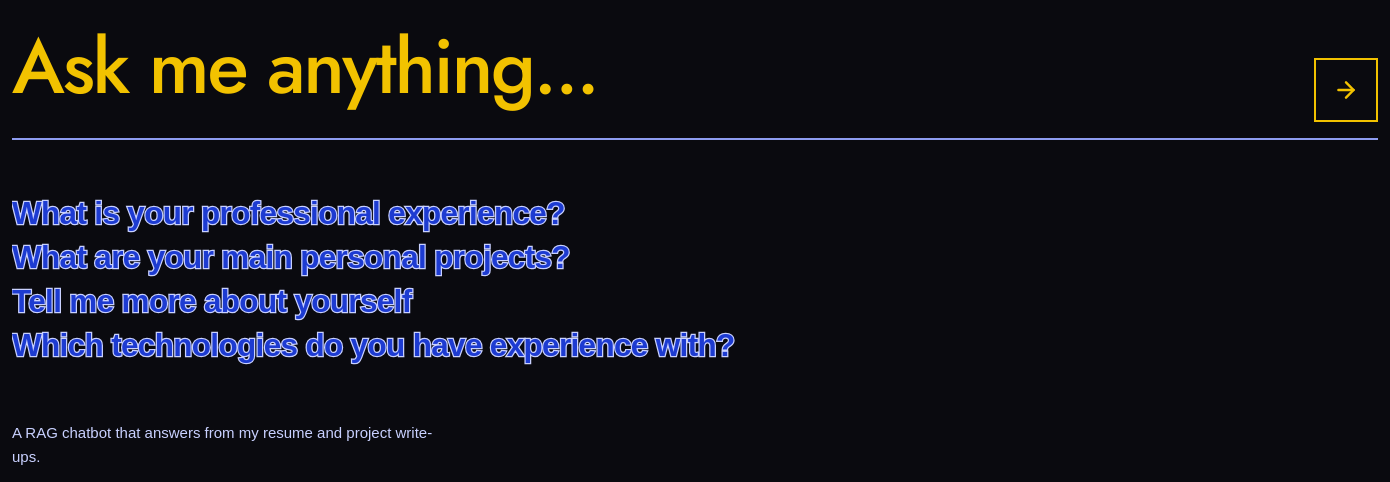
asking a short question › tells the visitor the chatbot is offline when the request fails
In the text box: (651, 75) [12,28,1290,122], type "Hi"
Then press Enter
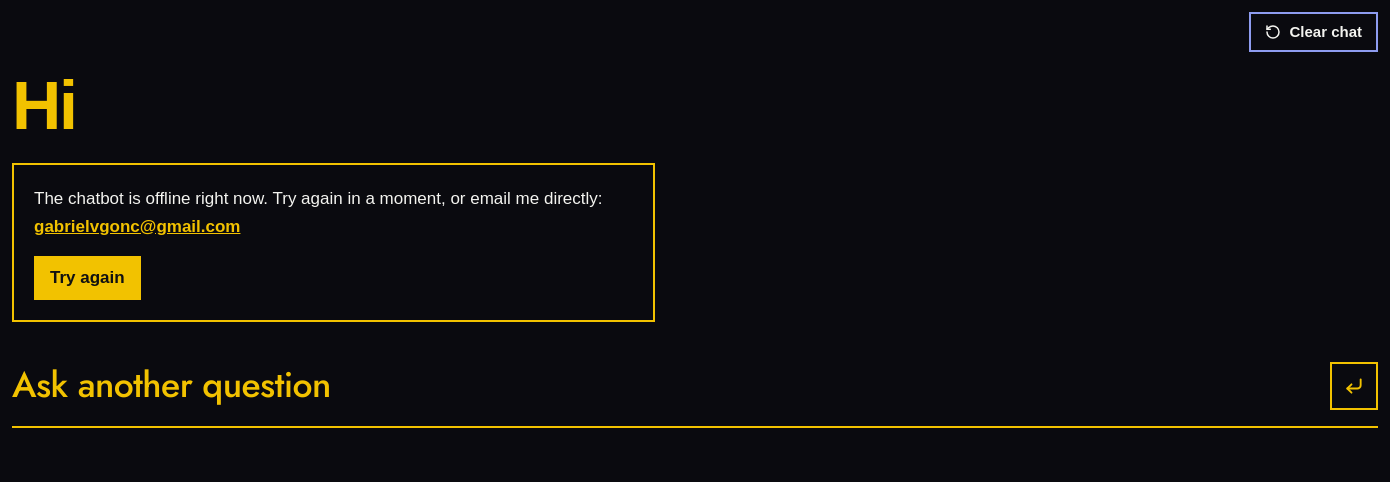
Now the message shows "The chatbot is offline right now", box [34,189,602,208]
Now the button "Try again" is shown, box [34,256,141,300]
